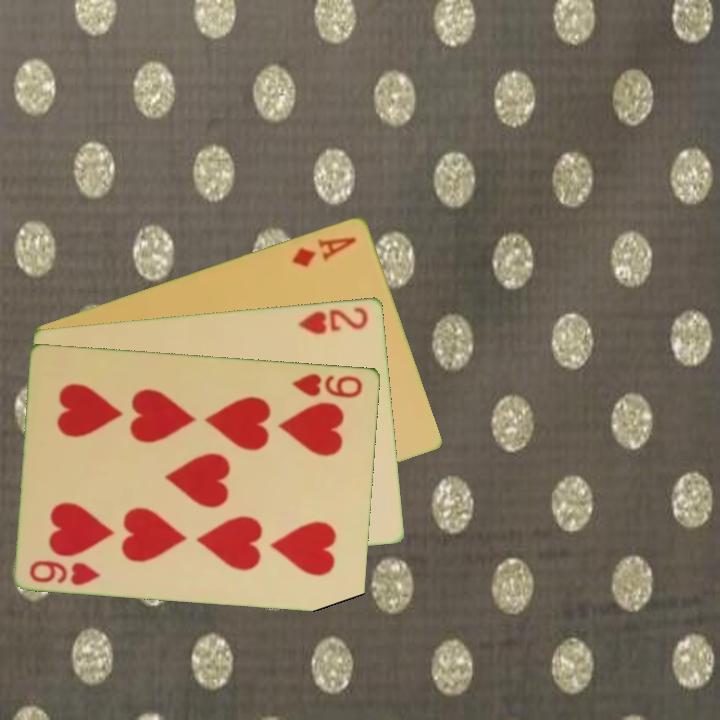2h: (295, 303, 372, 337)
9h: (26, 556, 103, 588), (289, 370, 366, 401)
Ad: (288, 232, 359, 270)
